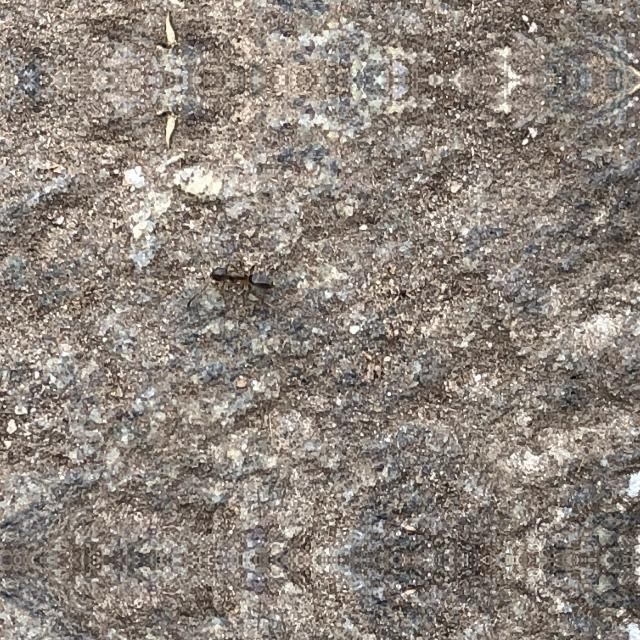Tapinoma: (196, 255, 284, 302)
